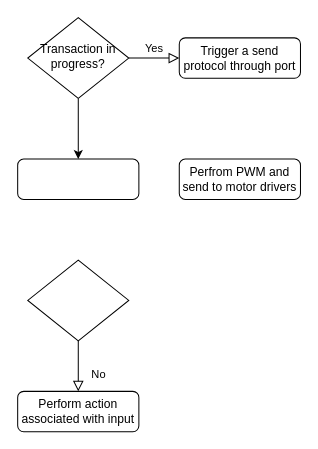
Image size: 318x449. Some labels were removed from this diagram. The centre of each missing label's shape, as x and y in pixels:
Input for motion control?: point (78, 300)
Input interrupt: point (78, 178)
